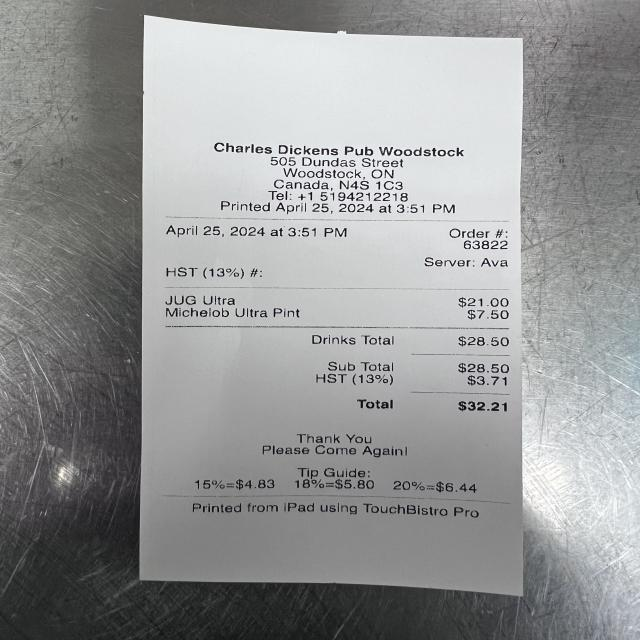item: (159, 290, 515, 311), (159, 306, 515, 326)
store_name: (203, 136, 471, 163)
total_amount: (350, 393, 516, 418)
transaction_date: (159, 220, 271, 243)
